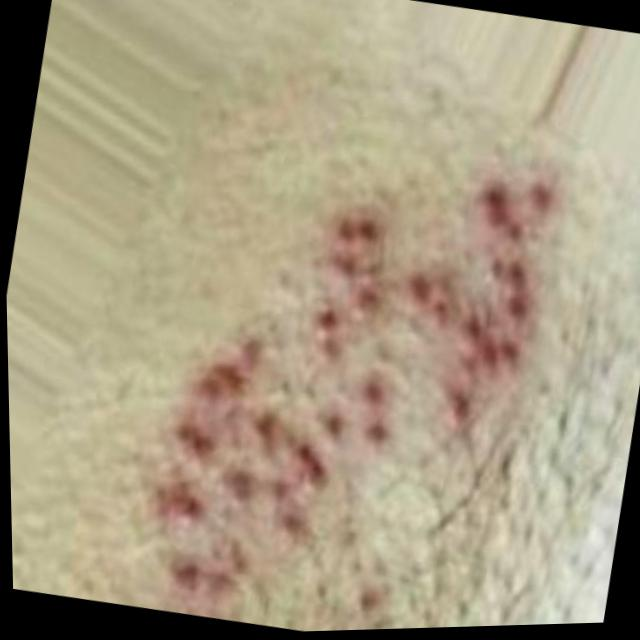Shingles: (129, 113, 566, 636)
